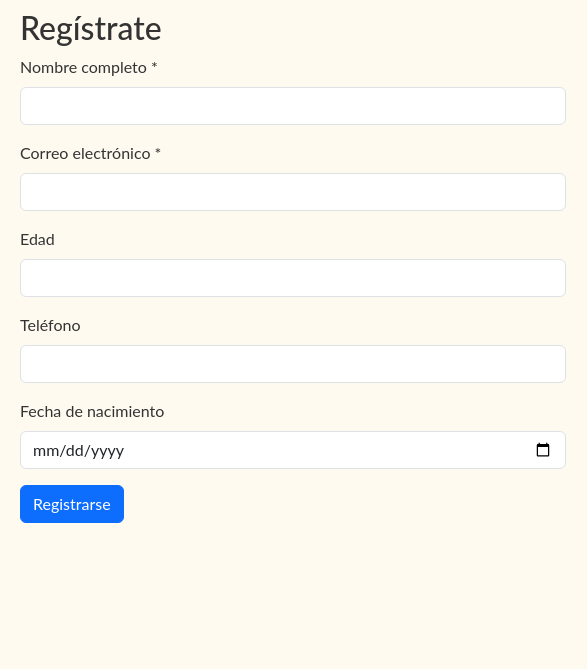
Test: Registro Component › debería mostrar error si el correo no tiene "@"
Type "testsinarroba.com" into the field labelled "Correo electrónico *" at (293, 192), box x1=20 y1=173 x2=566 y2=211
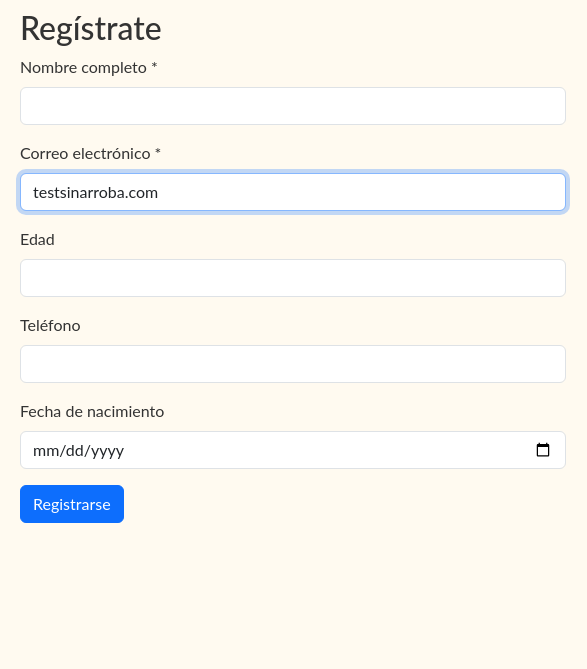
Click the button "Registrarse" at (72, 504), box x1=20 y1=485 x2=124 y2=523
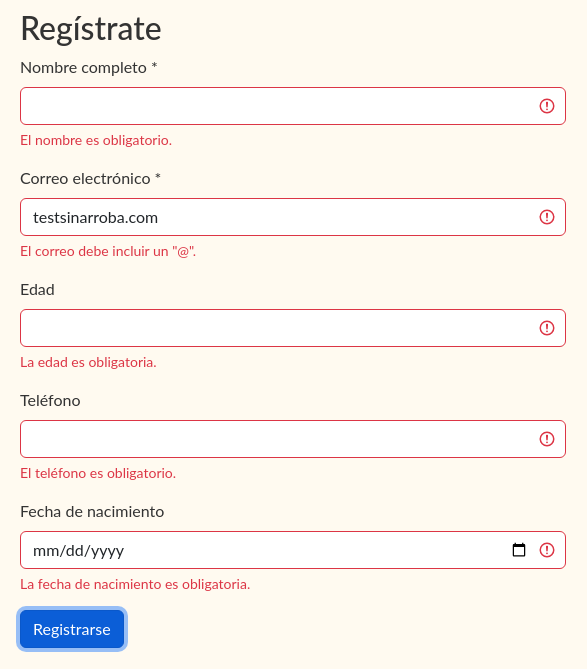
expect the text "El correo debe incluir un \"@\"." is shown: met, box x1=20 y1=242 x2=196 y2=259
